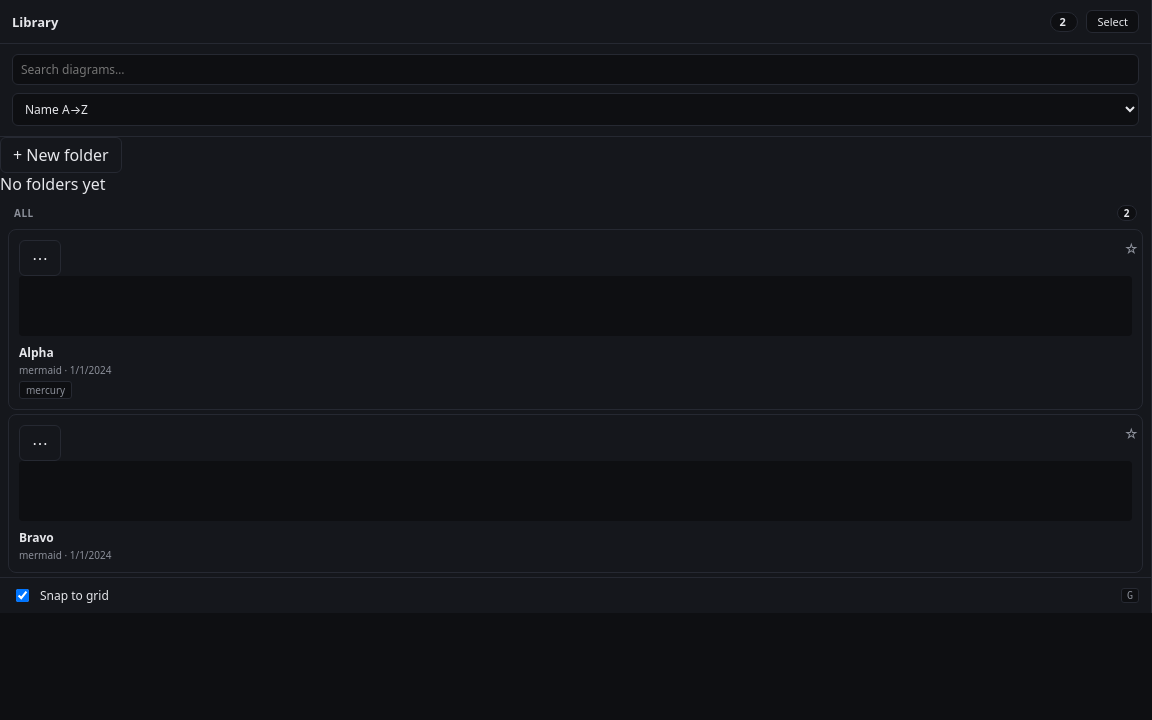
Test case: DetailModal (issue #7 F5) › clicking the ⋯ menu on a card opens the modal
Click the button with test id "library-item-menu-alpha" at (40,258), box [19,240,61,276]
(page scrolled)
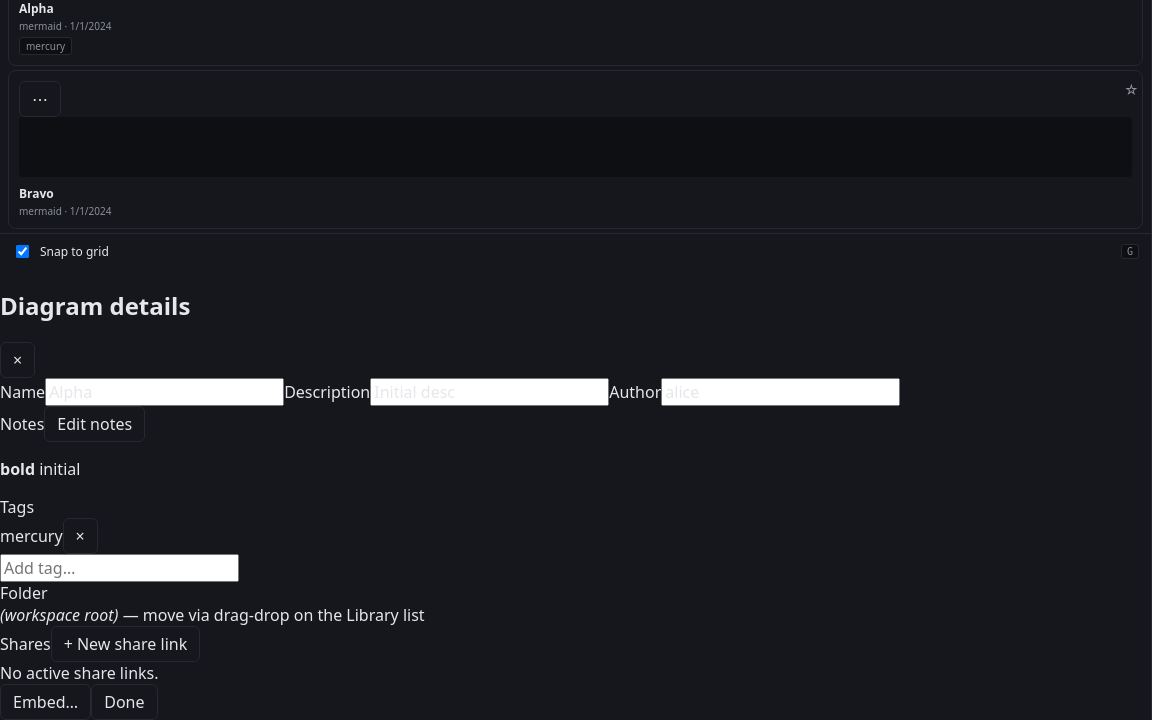
Check: the dialog with test id "detail-modal" is shown, box [0,289,900,719]
Check: the field with test id "detail-modal-name" holds "Alpha", box [45,378,284,406]
Check: the field with test id "detail-modal-description" holds "Initial desc", box [370,378,609,406]
